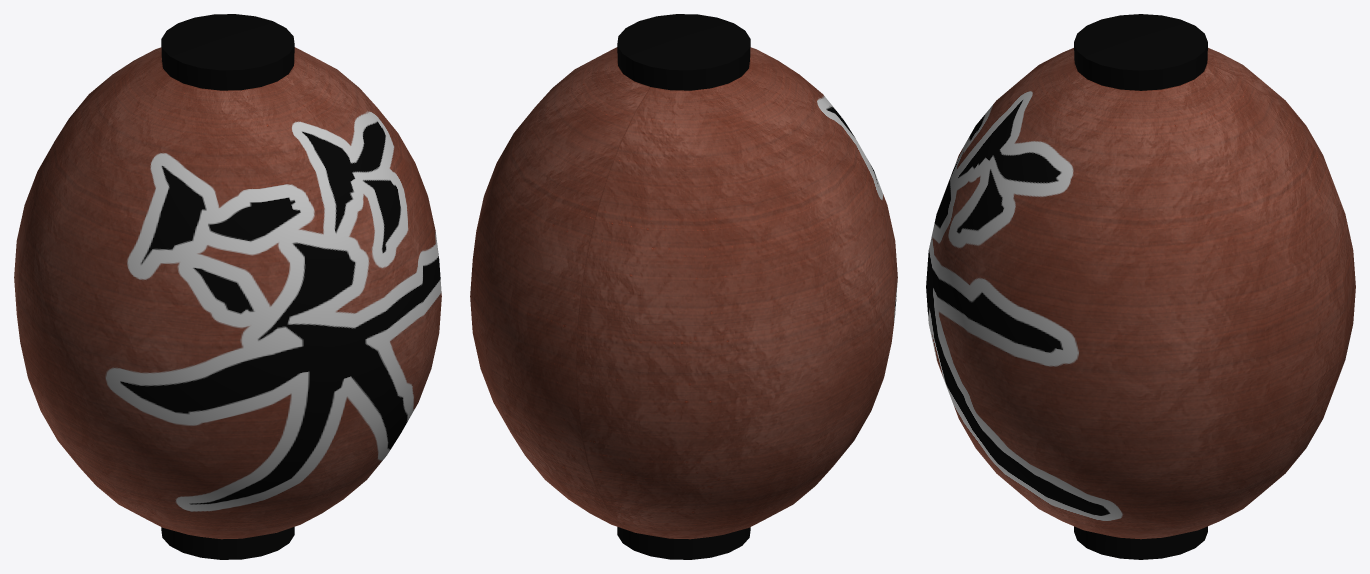
File: tyoutin.fbx
3 views of the same model, side by side, from view 1: azimuth 30°, elevation 25°; view 2: azimuth 150°, elevation 25°; view 3: azimuth 270°, elevation 25° (orthographic).
Visible parts, largest first — view 1: miyo_20171108_2252:miyo_20171108_2238:pSphere1; view 2: miyo_20171108_2252:miyo_20171108_2238:pSphere1; view 3: miyo_20171108_2252:miyo_20171108_2238:pSphere1.
Part boxes in pixels (left/top/right/bottom): miyo_20171108_2252:miyo_20171108_2238:pSphere1: left=14, top=14, right=441, bottom=559; miyo_20171108_2252:miyo_20171108_2238:pSphere1: left=470, top=14, right=897, bottom=559; miyo_20171108_2252:miyo_20171108_2238:pSphere1: left=926, top=14, right=1355, bottom=559.
Size of the model in its own units: 16.03 by 20.23 by 16.03.
Materials: 1 (1 with a texture image).
